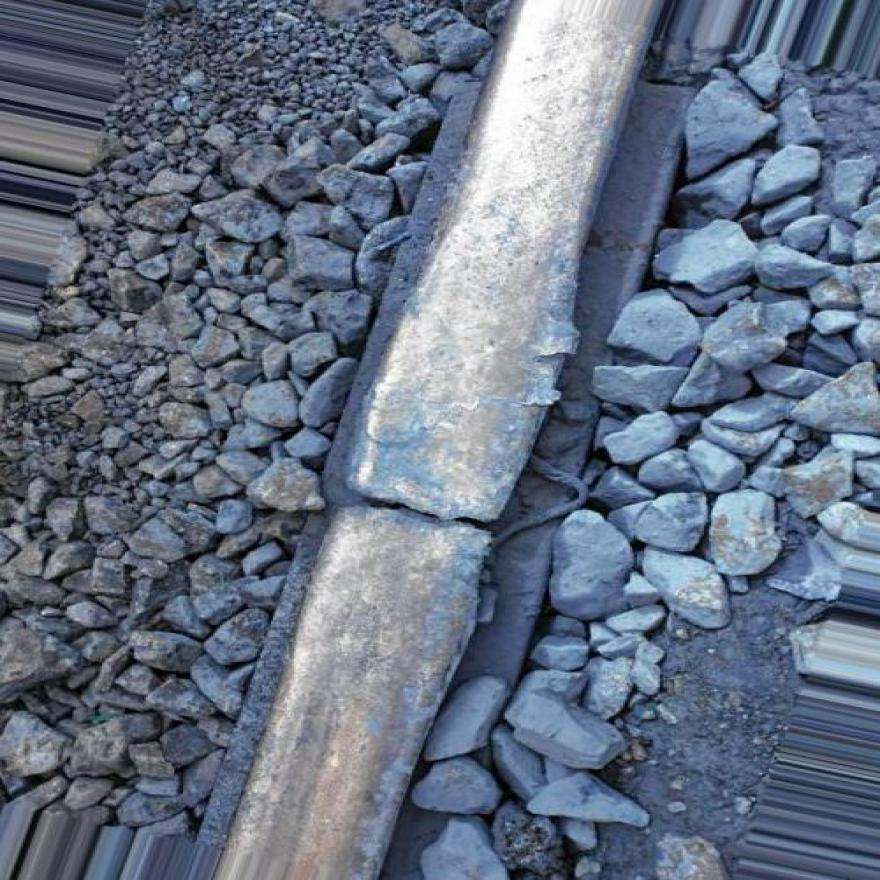railway-gap: (302, 420, 552, 608)
